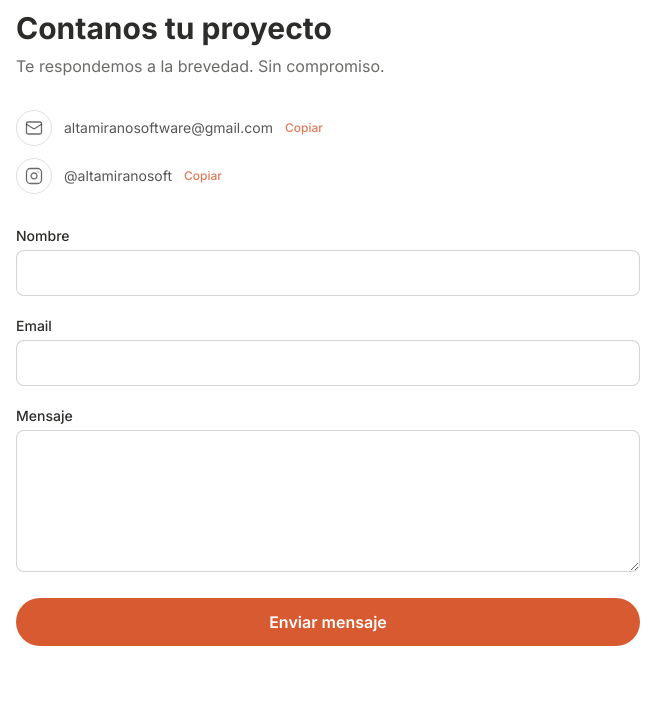
Scenario: ContactSection — estados de UI › estado de error: muestra mensaje específico ante rate limit (429)
Type "Axel Altamirano" into the field labelled "Nombre". click: [328, 273]
box: [16, 250, 640, 296]
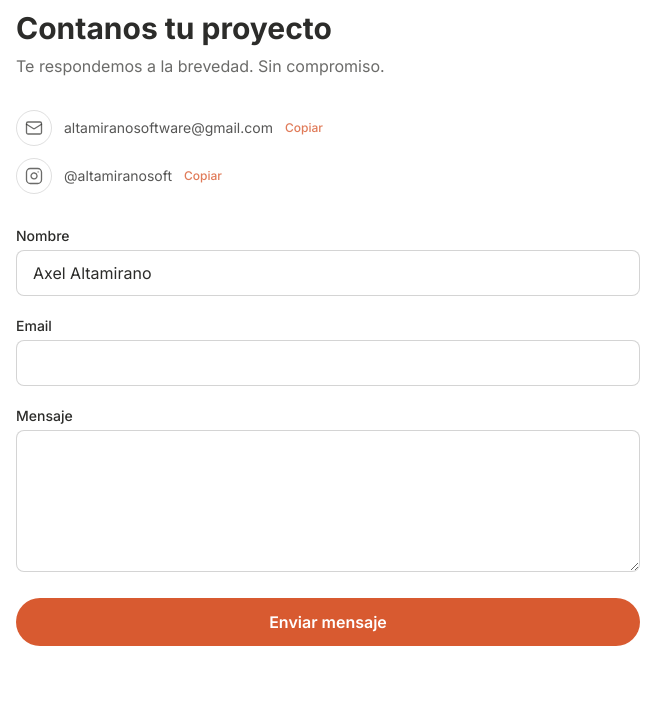
Type "axel@example.com" into the field labelled "Email". click: [328, 363]
box: [16, 340, 640, 386]
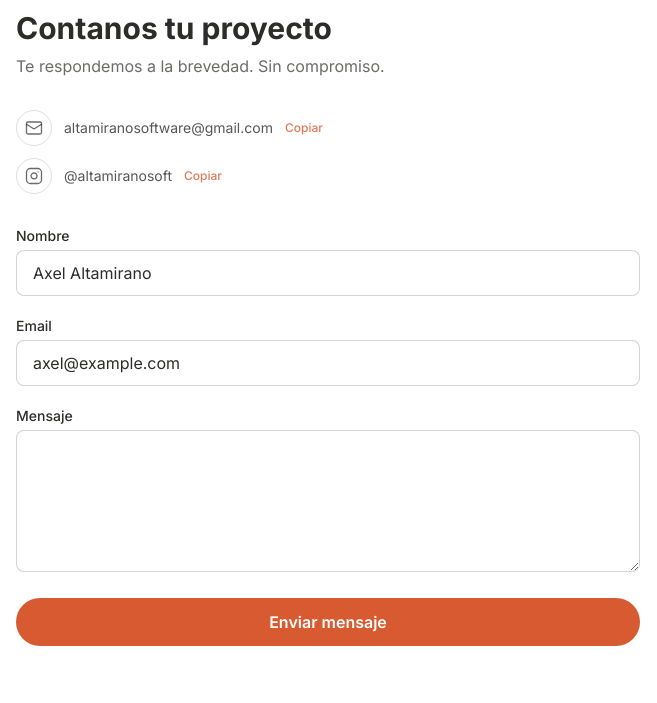
Type "Quiero cotizar un sistema para mi negocio." into the text box labelled "Mensaje". click: [328, 501]
box: [16, 430, 640, 572]
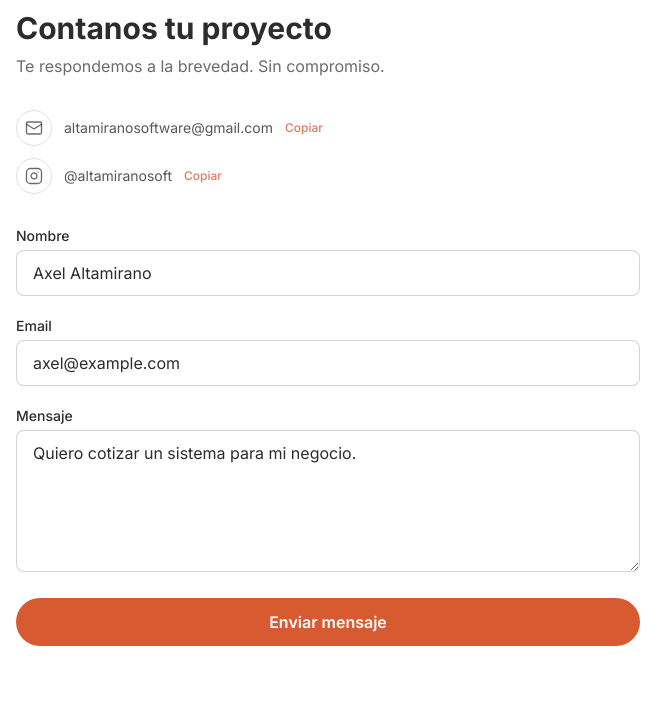
Click the button "Enviar mensaje". click: [328, 622]
box: [16, 598, 640, 646]
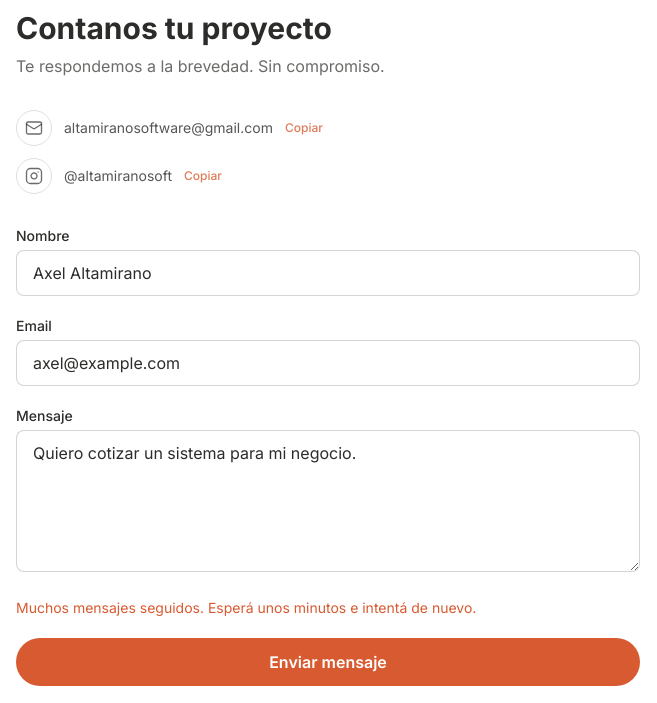
Expected: the message reads "Muchos mensajes seguidos. Esperá unos minutos e intentá de nuevo.", [16, 599, 476, 616]
